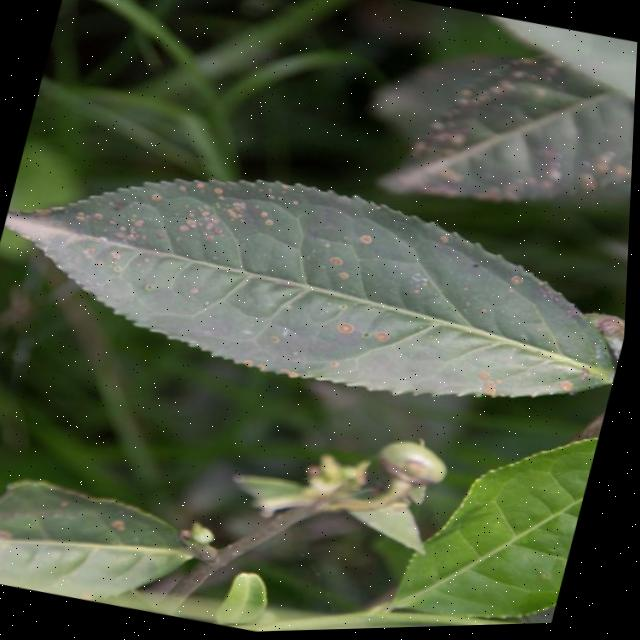Tea algae leaf spot: (36, 135, 595, 428)
